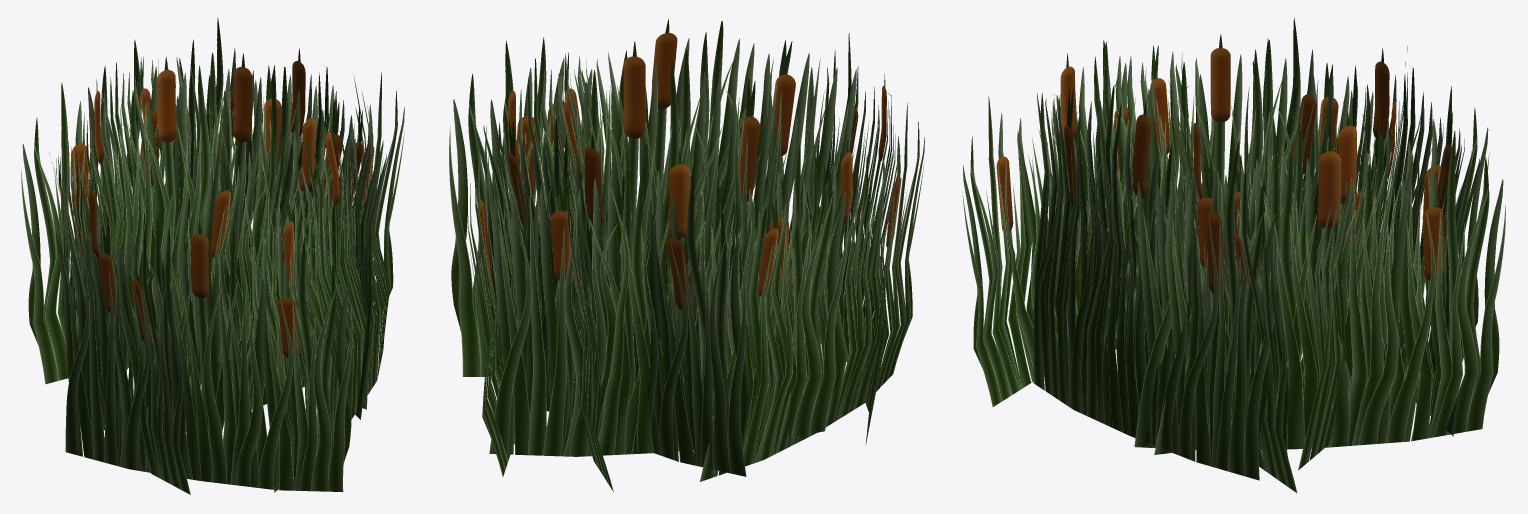
The model's file is Hotdog_02.fbx.
The picture shows the model from 3 angles, left to right: view 1: azimuth 30°, elevation 25°; view 2: azimuth 150°, elevation 25°; view 3: azimuth 270°, elevation 25°; orthographic projection. The views are drawn at different scales.
Parts seen in each view (by area): view 1: Hotdog_02; view 2: Hotdog_02; view 3: Hotdog_02.
Boxes of the visible parts, x1=… form: Hotdog_02: x1=21, y1=17, x2=404, y2=494; Hotdog_02: x1=449, y1=19, x2=924, y2=491; Hotdog_02: x1=962, y1=17, x2=1505, y2=493.
Size of the model in its own units: 82.97 by 64.59 by 94.78.
